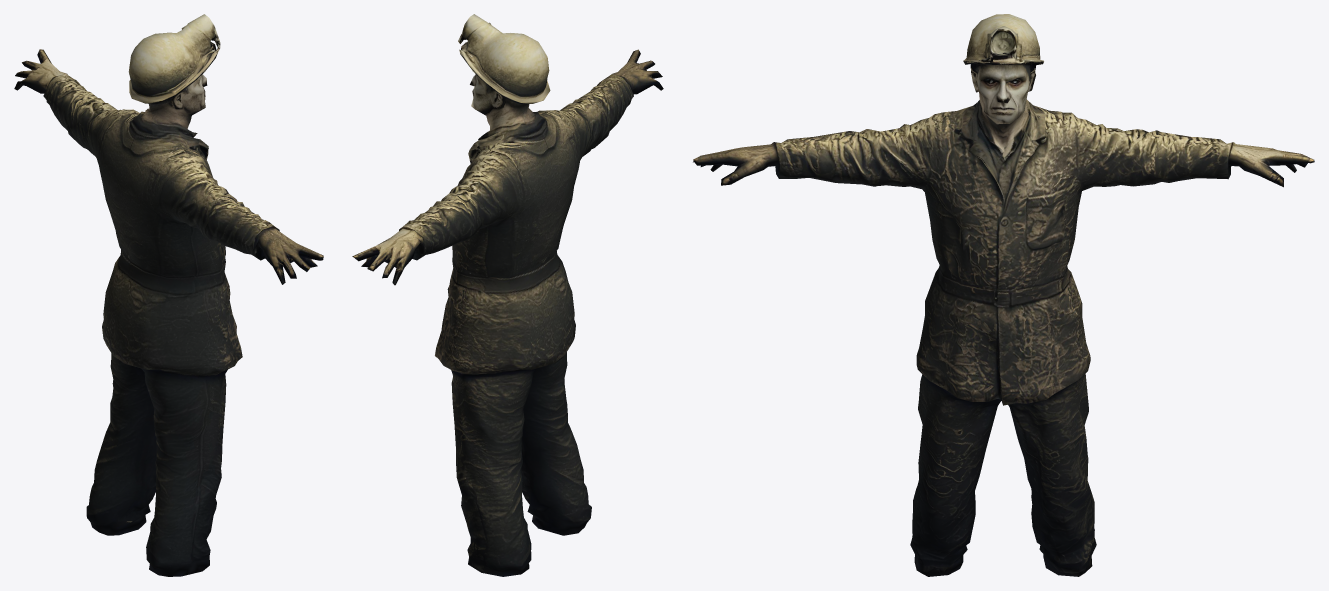
File: miner+3d+model.fbx
3 views of the same model, side by side, from view 1: azimuth 30°, elevation 25°; view 2: azimuth 150°, elevation 25°; view 3: azimuth 270°, elevation 25° (orthographic). The views are drawn at different scales.
Parts seen in each view (by area): view 1: tripo_node_59cf8c33; view 2: tripo_node_59cf8c33; view 3: tripo_node_59cf8c33.
Boxes of the visible parts, <box> form: tripo_node_59cf8c33: <box>14,14,323,576</box>; tripo_node_59cf8c33: <box>352,14,663,576</box>; tripo_node_59cf8c33: <box>693,14,1314,576</box>.
Size of the model in its own units: 0.2241 by 0.9987 by 0.9971.
1 material, 1 textured.
